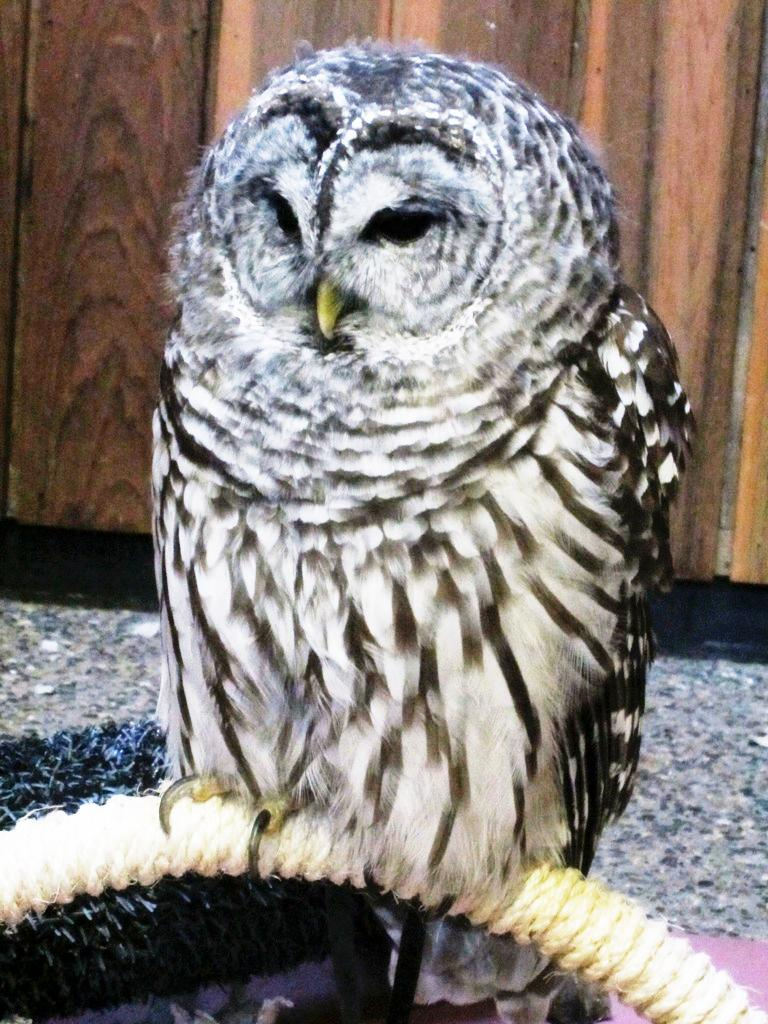Owl: (150, 37, 698, 995)
